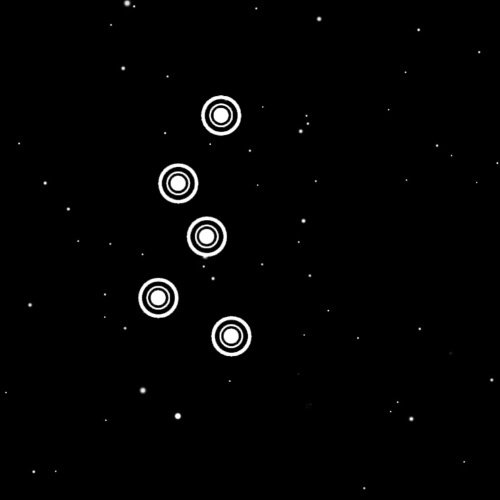cassiopeia: (118, 80, 267, 371)
